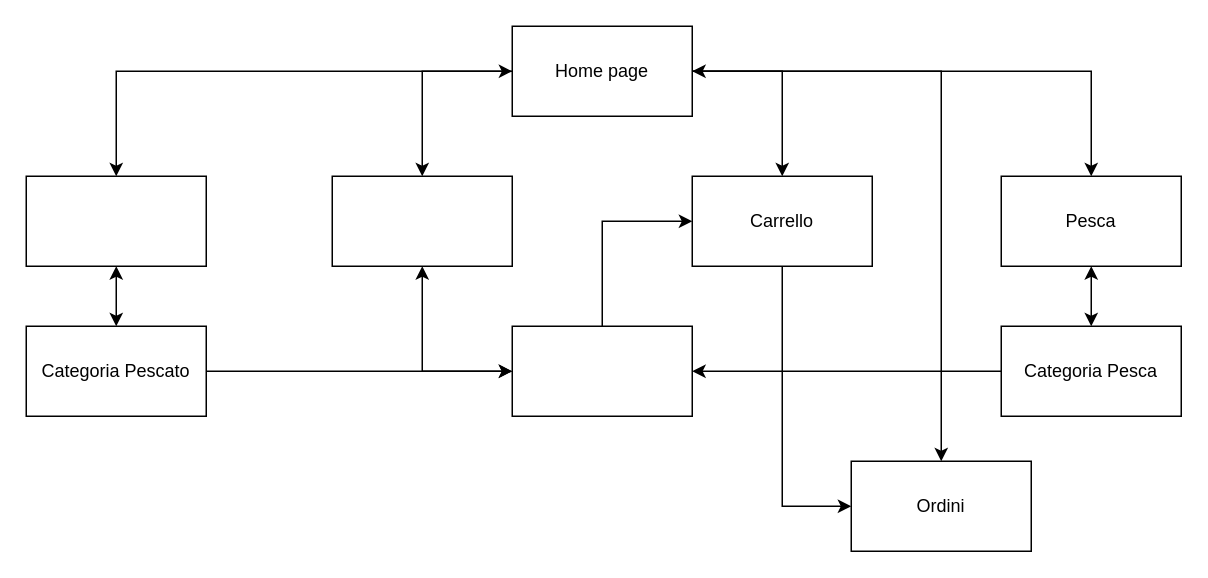
Some shapes in this 1208 by 578 pixel diagram are drawn without their labels. The centre of each missing label's shape, as x and y in pixels:
Pescato: point (115, 220)
Prodotto: point (601, 370)
Ricette: point (421, 220)
